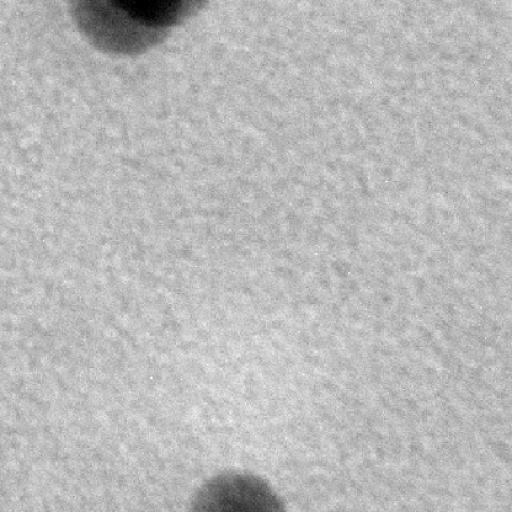Nanoparticles: (68, 0, 180, 57), (166, 473, 302, 511), (112, 0, 216, 26), (206, 0, 208, 4)
